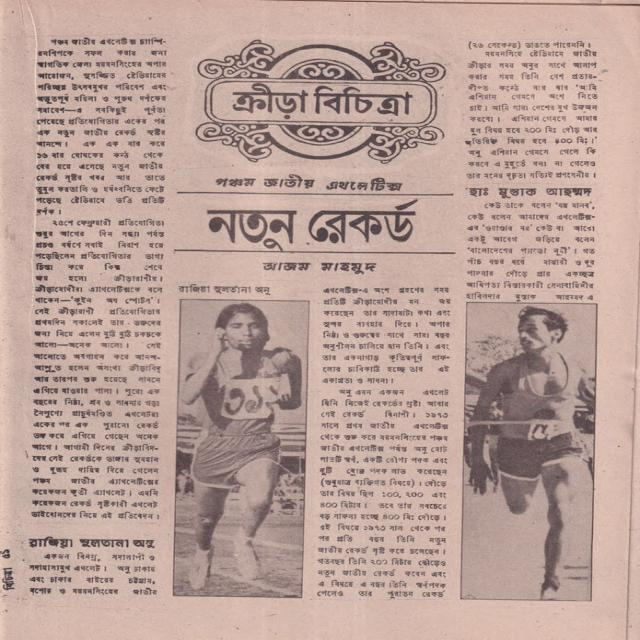caption: (176, 283, 272, 296)
image: (459, 301, 598, 602), (172, 299, 311, 599), (197, 40, 444, 162)
page number: (0, 548, 12, 560)
paragraph: (29, 217, 166, 521), (315, 387, 451, 600), (33, 33, 169, 218), (463, 49, 600, 182), (319, 284, 453, 385), (465, 200, 597, 302), (27, 551, 159, 597), (466, 40, 592, 51)
text: (260, 261, 379, 276), (1, 566, 18, 592)
title: (204, 197, 426, 252), (232, 82, 431, 116), (214, 172, 405, 192), (27, 535, 155, 550), (466, 186, 593, 200)
